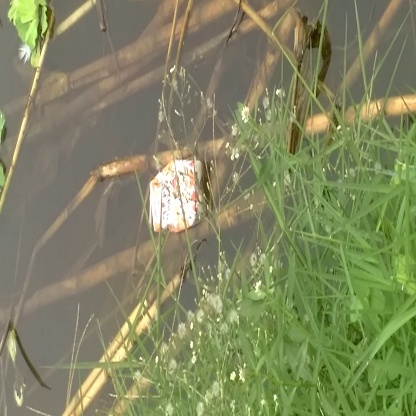milk-box: (147, 156, 210, 233)
